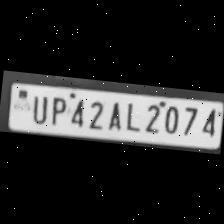0: (158, 102, 181, 134)
2: (140, 99, 164, 133), (84, 95, 106, 129)
4: (64, 93, 88, 127), (196, 104, 220, 138)
7: (178, 102, 199, 136)
A: (104, 96, 125, 130)
L: (122, 98, 142, 132)
P: (46, 92, 68, 125)
U: (27, 90, 50, 124)
